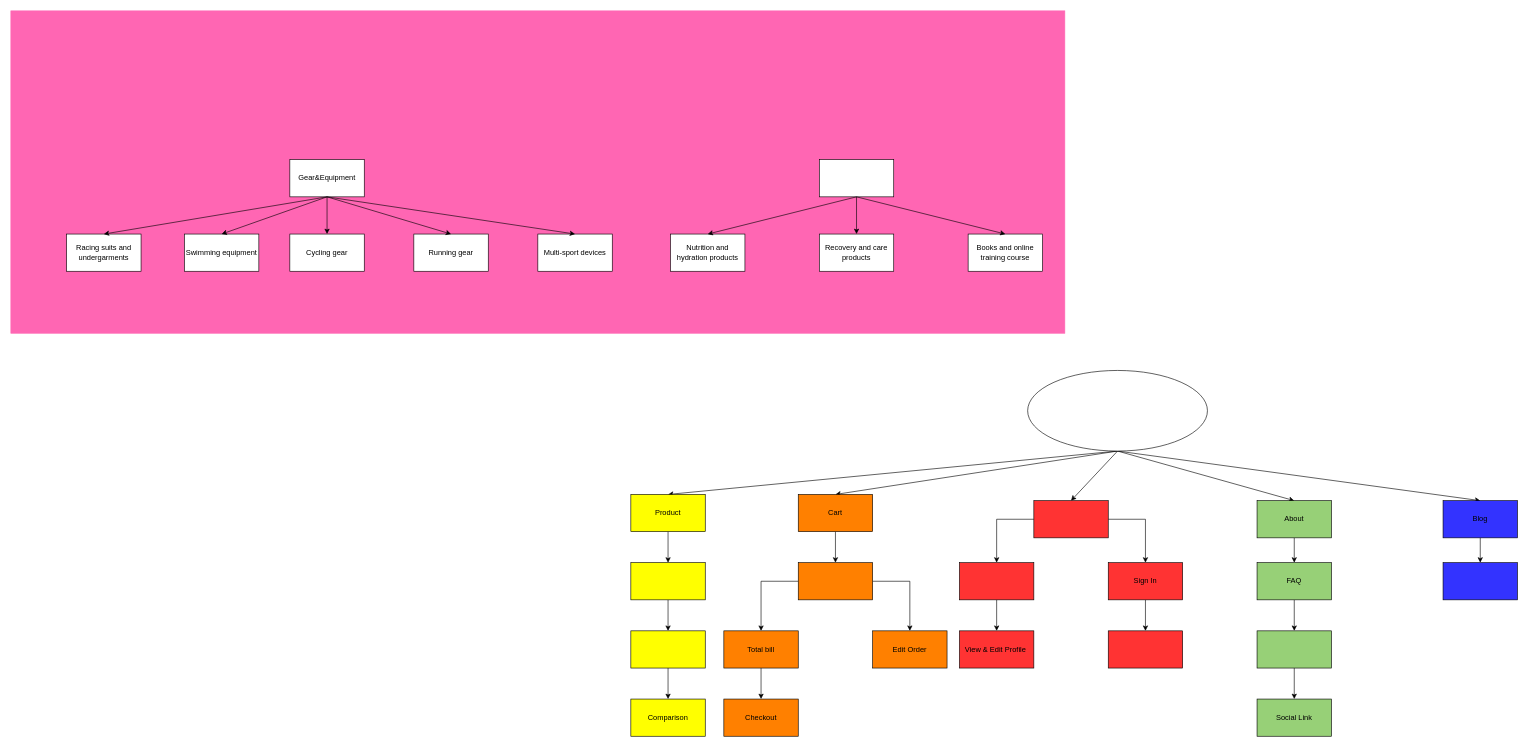
The diagram is 1528 pixels wide and 747 high, and some of its shapes have lost their labels. Here are the shapes that lost their labels. From the top down, the centre of each, then its label:
(x=856, y=178): Health Care
(x=1117, y=410): Trialathon Shop
(x=1070, y=519): Account
(x=667, y=581): Show Product
(x=835, y=581): View cart product
(x=996, y=581): Profile
(x=1479, y=581): Forums
(x=667, y=649): Add to cart
(x=1145, y=649): Sign Up
(x=1293, y=649): Contact
